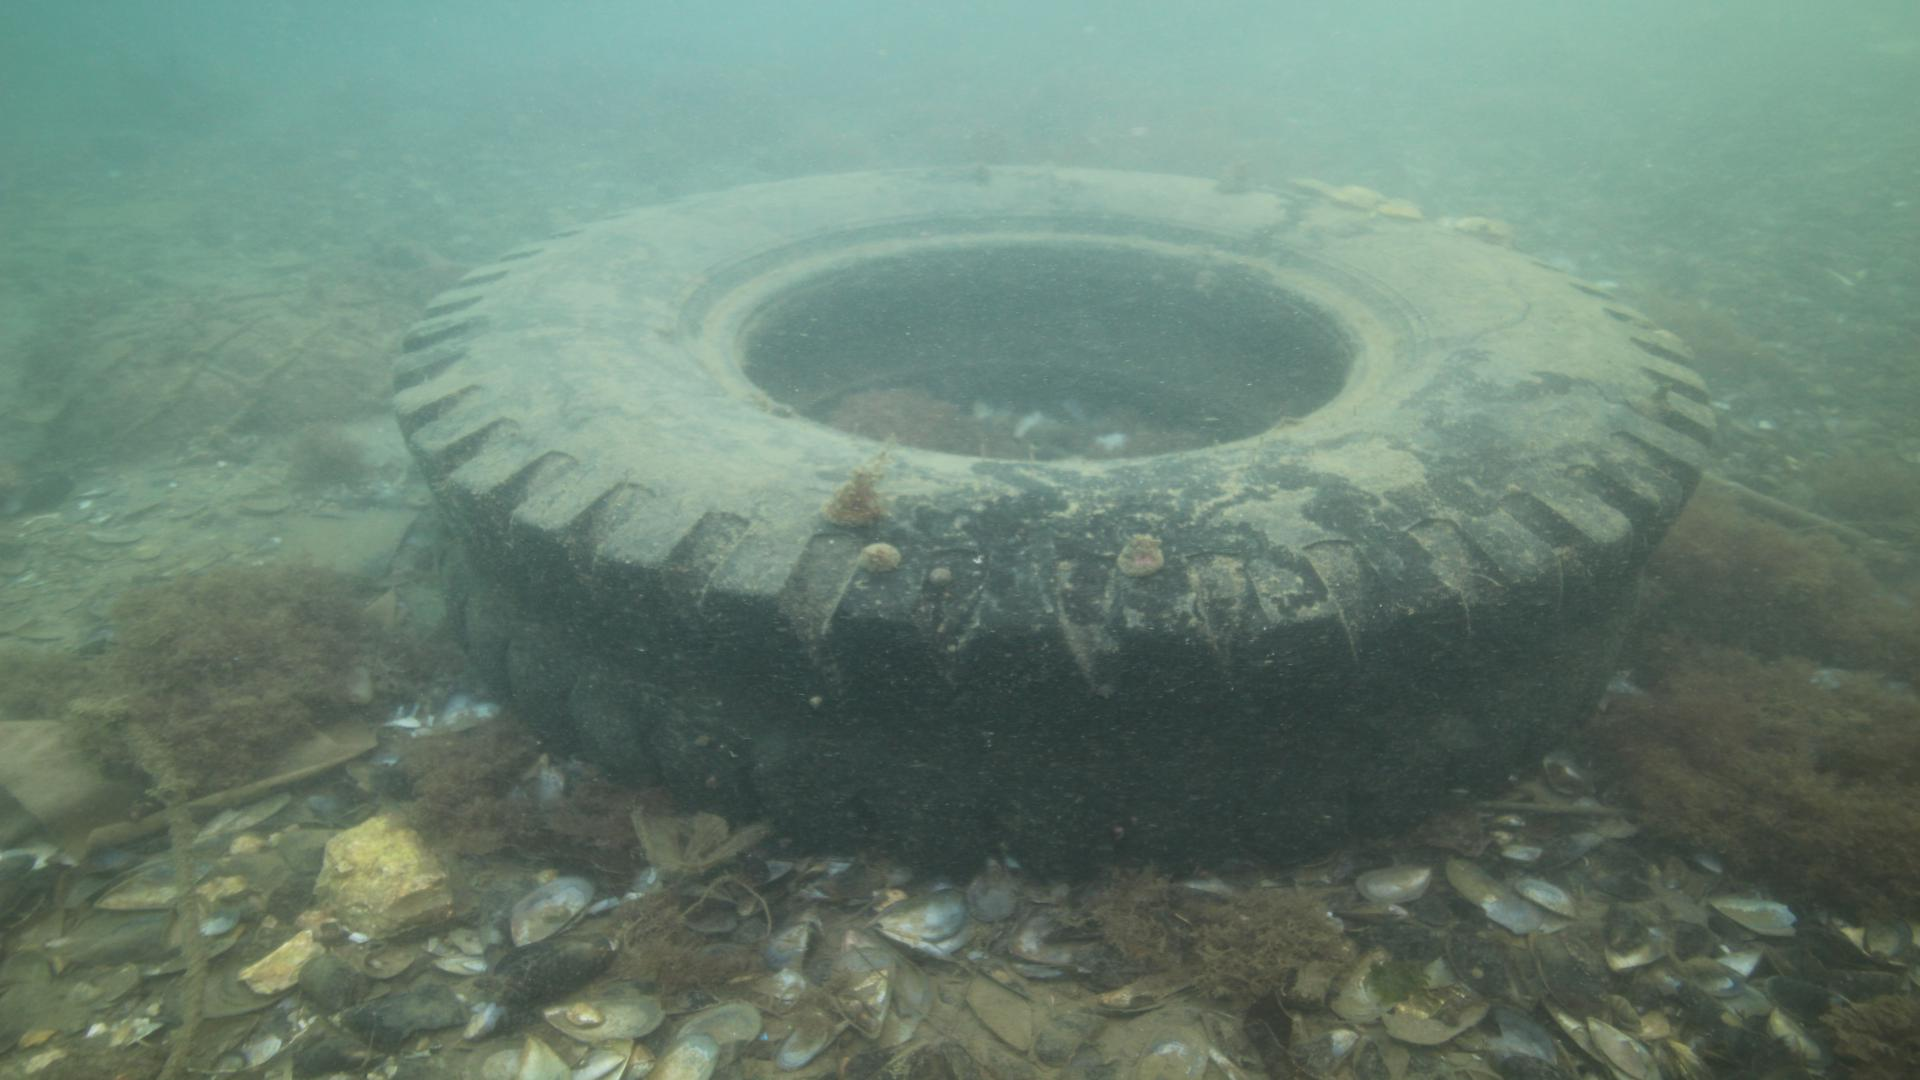tire: (388, 164, 1720, 880)
